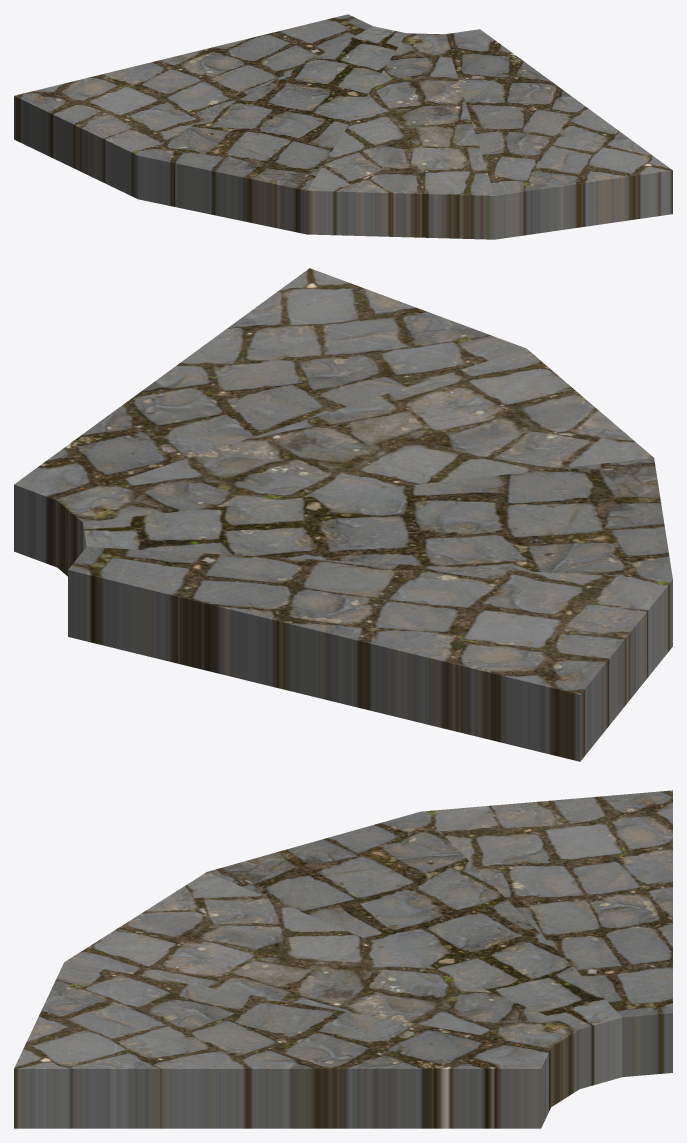
File: road4.gltf
The picture shows the model from 3 angles, top to bottom: view 1: azimuth 30°, elevation 25°; view 2: azimuth 150°, elevation 25°; view 3: azimuth 270°, elevation 25°; orthographic projection. The views are drawn at different scales.
Parts seen in each view (by area): view 1: Object_6.011, Object_6.005, Object_6.017, Object_6.021; view 2: Object_6.021, Object_6.005, Object_6.011, Object_6.017; view 3: Object_6.005, Object_6.021, Object_6.017, Object_6.011.
Boxes of the visible parts, <box> form: Object_6.011: <box>307,33,494,239</box>; Object_6.005: <box>444,29,672,239</box>; Object_6.017: <box>138,26,406,234</box>; Object_6.021: <box>14,14,372,198</box>; Object_6.021: <box>68,547,672,761</box>; Object_6.005: <box>14,268,526,567</box>; Object_6.011: <box>57,348,653,576</box>; Object_6.017: <box>83,458,672,579</box>; Object_6.005: <box>14,962,551,1128</box>; Object_6.021: <box>421,790,672,1076</box>; Object_6.017: <box>207,811,622,1088</box>; Object_6.011: <box>64,872,579,1106</box>.
Bounding box in the file's own units: 10 × 1 × 10.
Materials: 1 (1 with a texture image).
